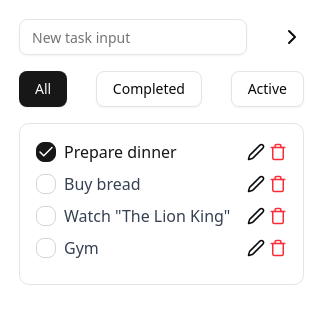
Test: MainTemplate › sholud display error message when title is less than 3 characters
Type "Ne" into the field with placeholder "New task input" at (133, 37), box [19,19,247,55]
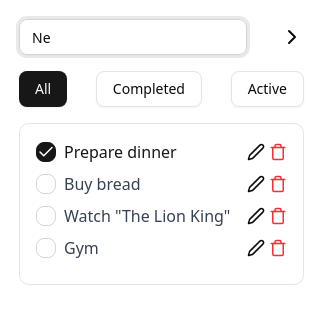
Click the button with test id "submitBtn" at (292, 37), box [280,25,304,49]
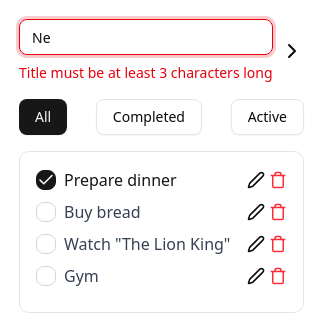
Result: the text "Title must be at least 3 characters long" is shown at [19,63,273,83]
